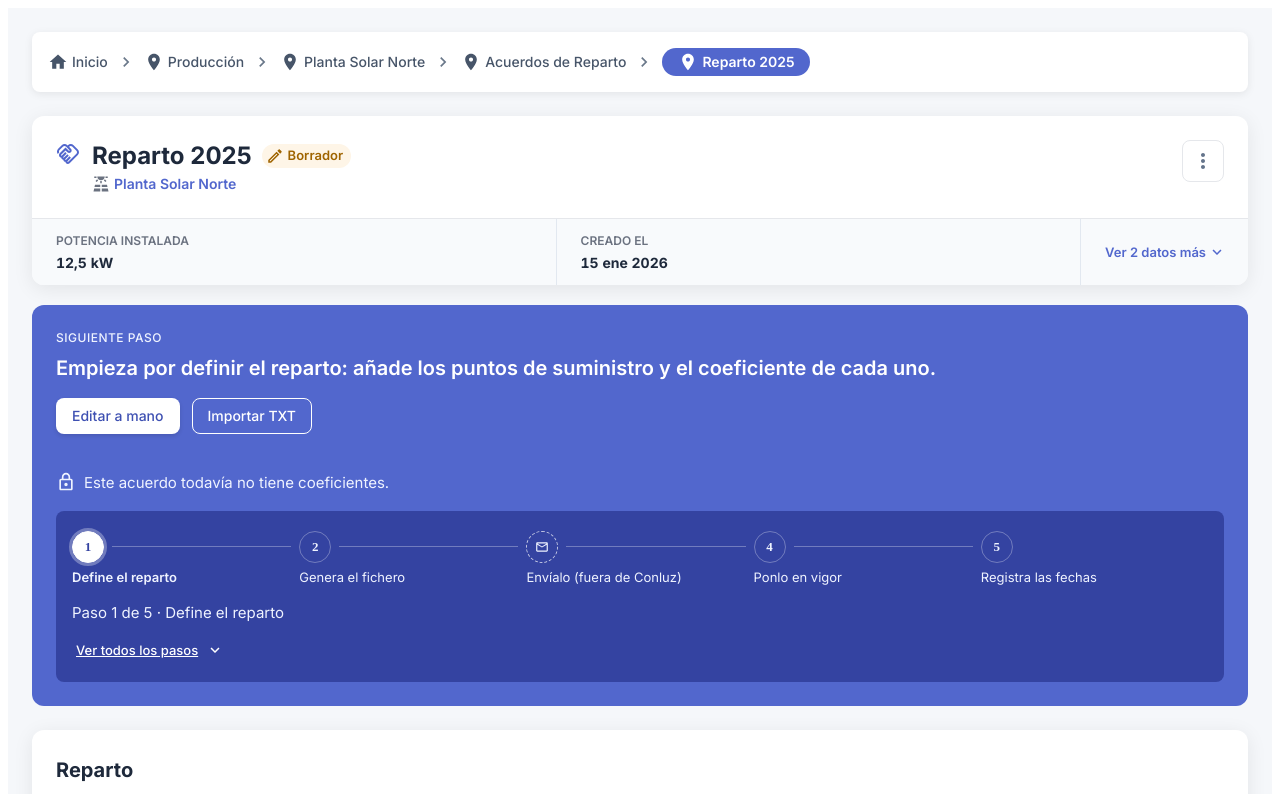
Test: SharingAgreementDetailPage › offers editing and deleting in the kebab for a DRAFT agreement
Click the button named "Más opciones del acuerdo": (1203, 161) [1182,140,1224,182]
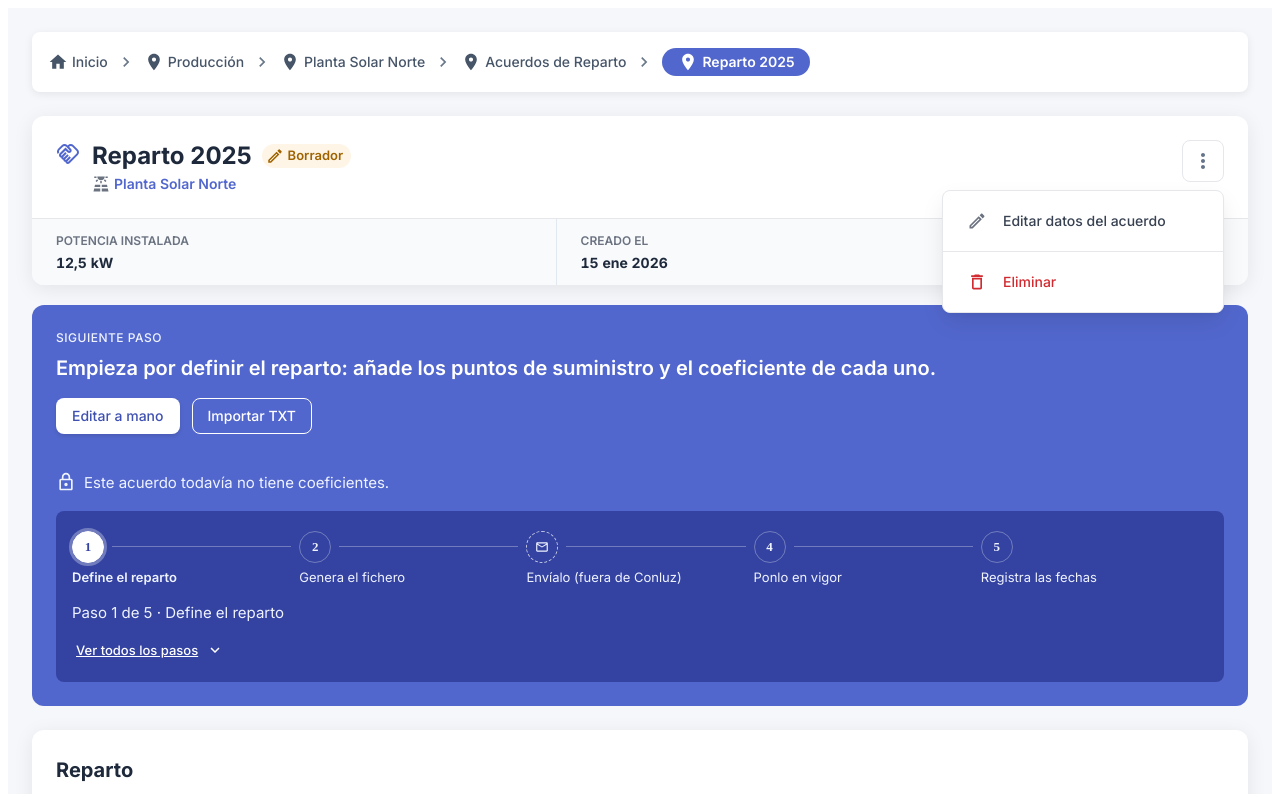
expect the text "Editar datos del acuerdo" is shown: met, box [1003,211,1166,231]
expect the text "Eliminar" is shown: met, box [1003,272,1056,292]
